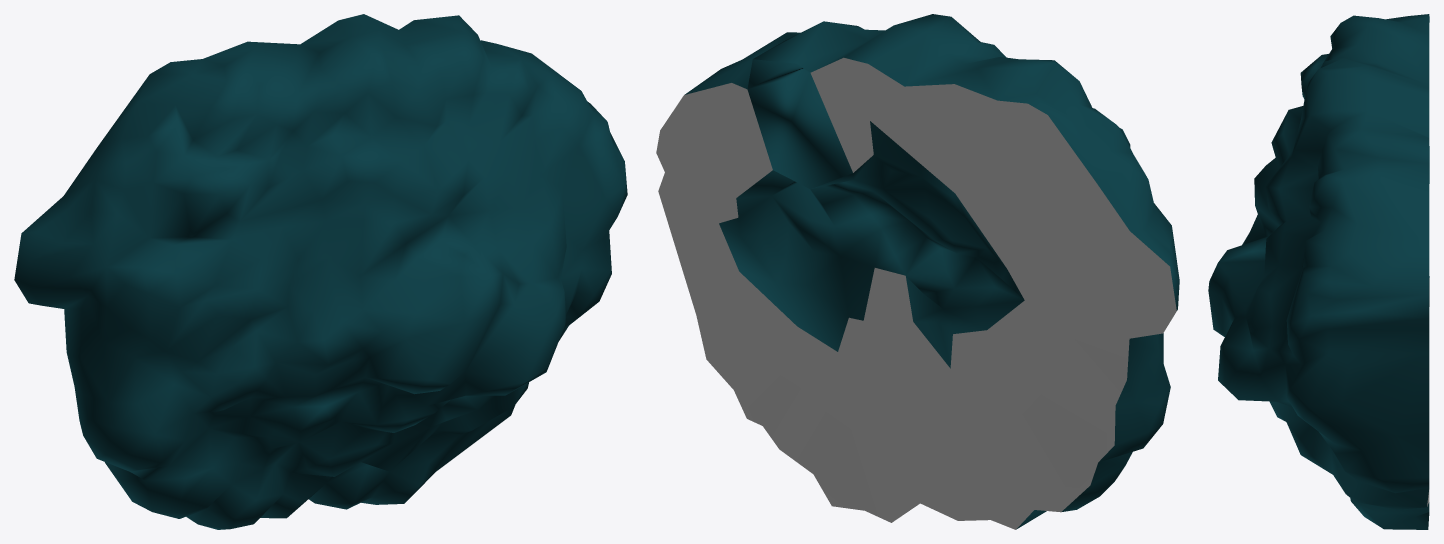
Rendered from 126_PlanetE.obj.
The picture shows the model from 3 angles, left to right: view 1: azimuth 30°, elevation 25°; view 2: azimuth 150°, elevation 25°; view 3: azimuth 270°, elevation 25°; orthographic projection. The views are drawn at different scales.
Size of the model in its own units: 39494 by 33629 by 15375.
